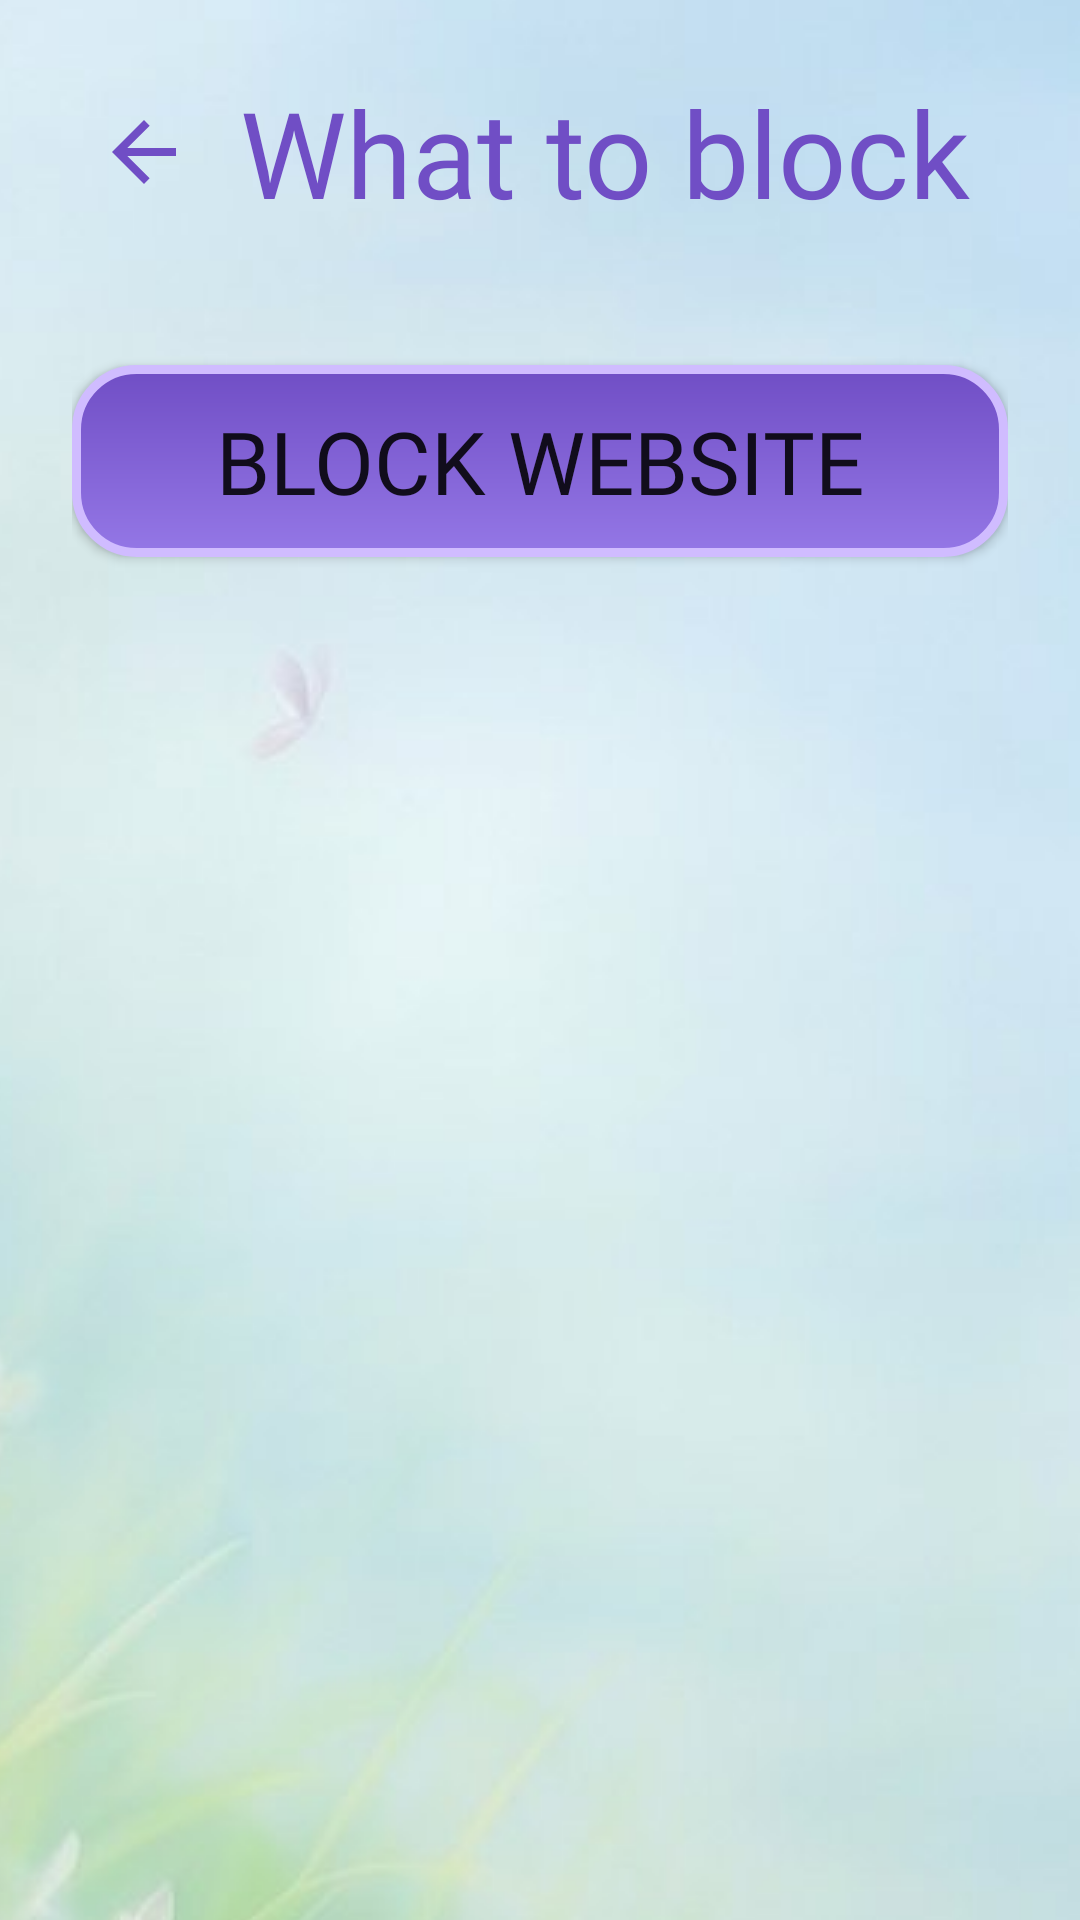

Named icons in this screenshot (1080 × 1920) and their bounding boxes, (x1, y1, x2, y2):
Back: (112, 120, 176, 184)
